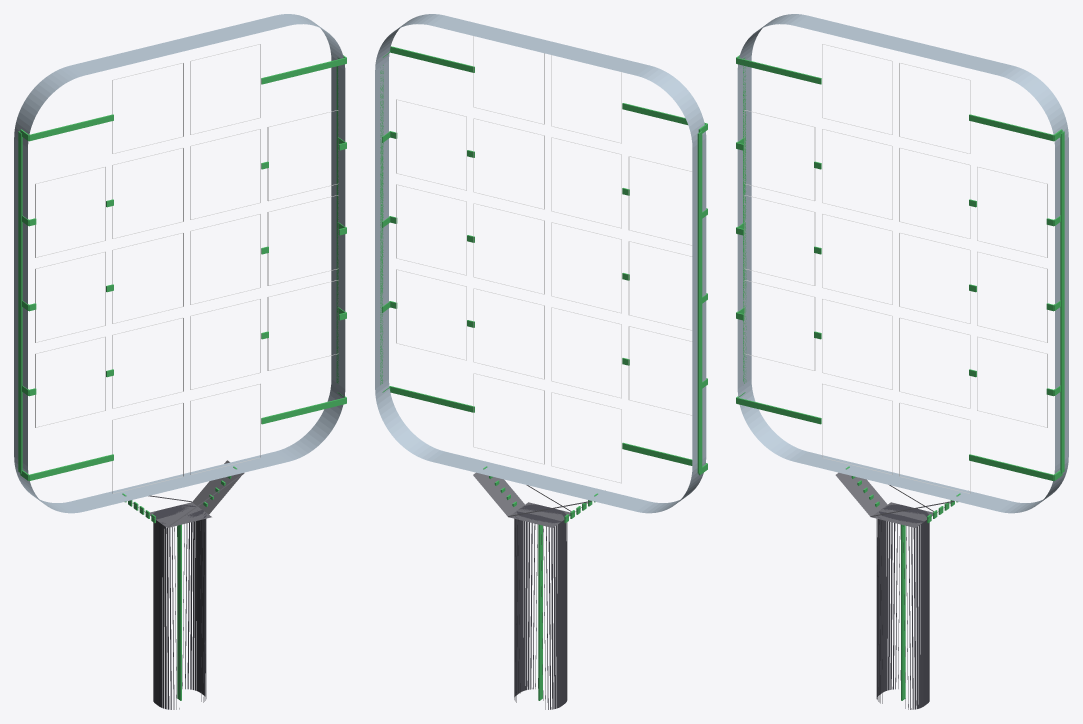
File: PaddlePal_v5_wired.glb
The picture shows the model from 3 angles, left to right: view 1: azimuth 30°, elevation 25°; view 2: azimuth 150°, elevation 25°; view 3: azimuth 330°, elevation 25°; orthographic projection.
Visible parts, largest first — view 1: PaddlePal; view 2: PaddlePal; view 3: PaddlePal.
Part boxes in pixels (<box>): PaddlePal: <box>14,14,346,709</box>; PaddlePal: <box>375,14,707,709</box>; PaddlePal: <box>736,14,1068,709</box>.
Size of the model in its own units: 0.1996 by 0.39 by 0.022.
